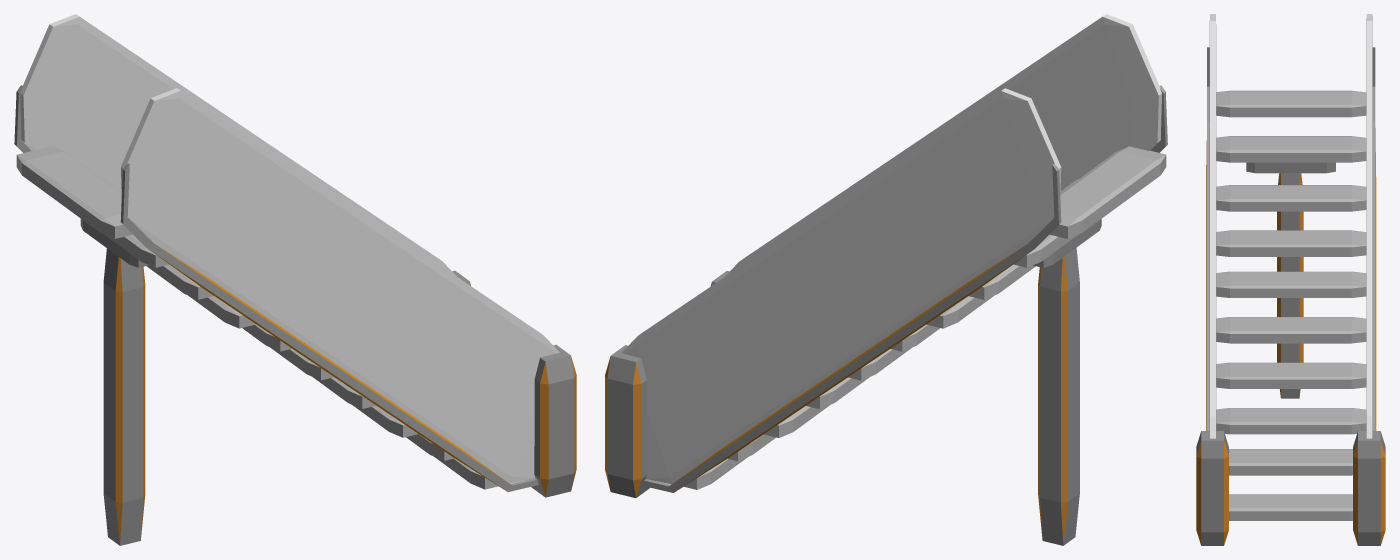
Rendered from stairs.fbx.
3 renders of one model, left to right at view 1: azimuth 30°, elevation 25°; view 2: azimuth 150°, elevation 25°; view 3: azimuth 270°, elevation 25°, orthographic. The views are drawn at different scales.
Parts seen in each view (by area): view 1: Cube.010; view 2: Cube.010; view 3: Cube.010.
Boxes of the visible parts, bbox=[...] form: Cube.010: bbox=[14, 14, 576, 545]; Cube.010: bbox=[605, 14, 1167, 545]; Cube.010: bbox=[1196, 14, 1385, 545].
Bounding box in the file's own units: 1205 × 1234 × 558.
